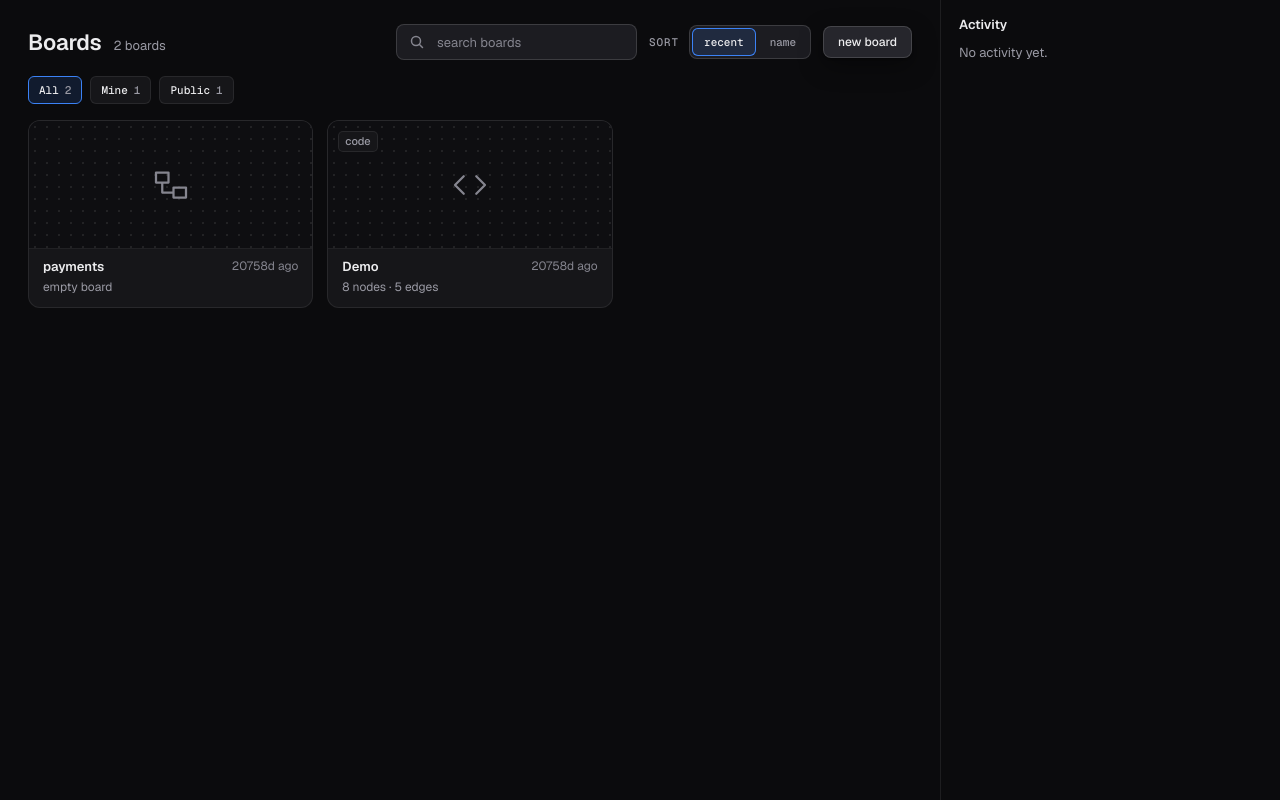
Test: dashboard page › shows board creation reducer errors verbatim
Click the button "new board" at [868, 42], box [823,26,912,58]
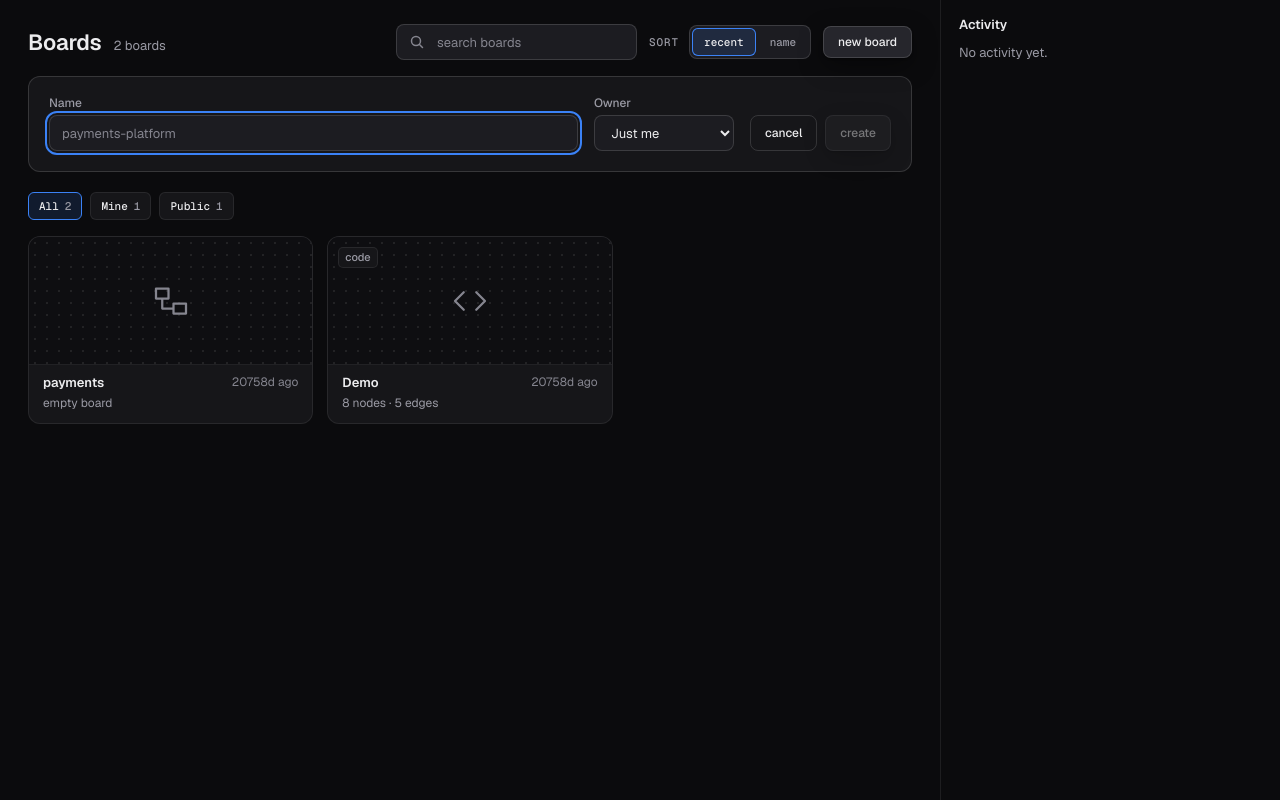
Type "infra" into the field labelled "Name" at [314, 133], box [49,115,578,151]
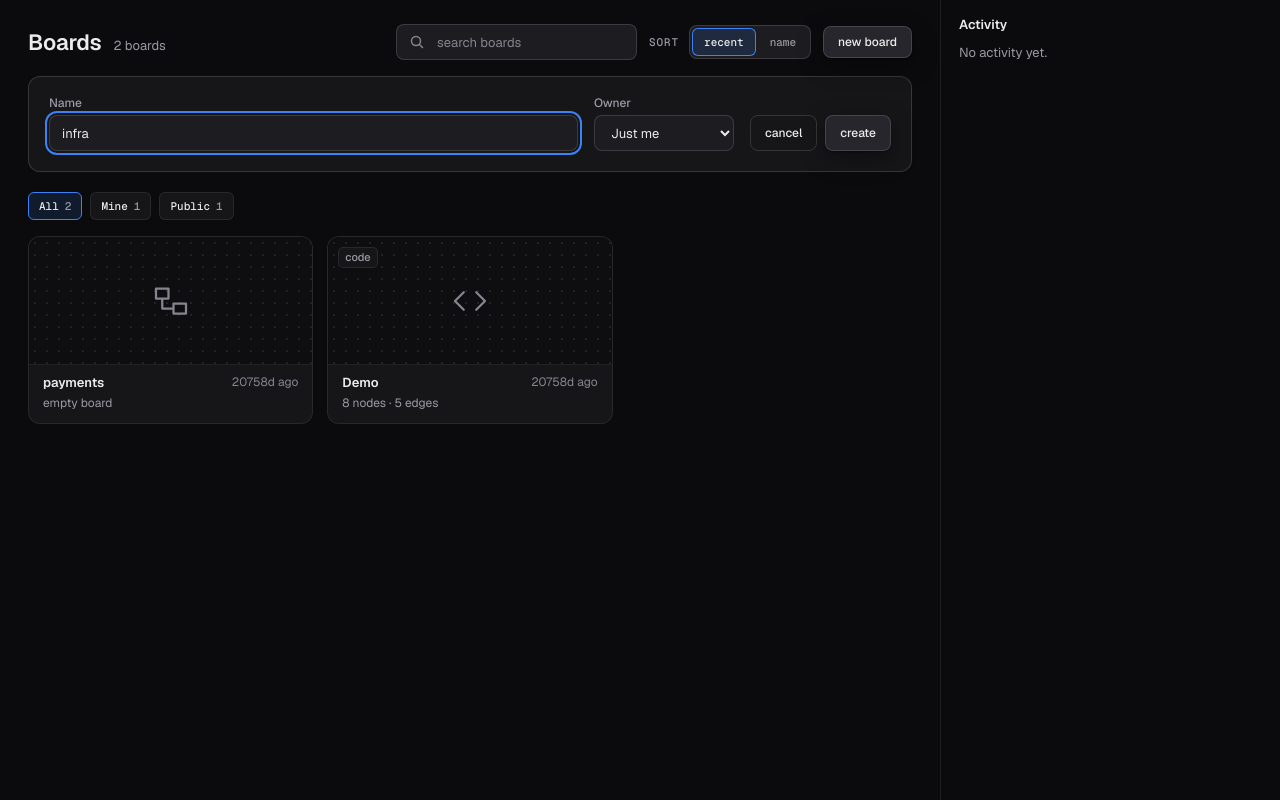
Submit the form named "New board", box [28,76,912,172]
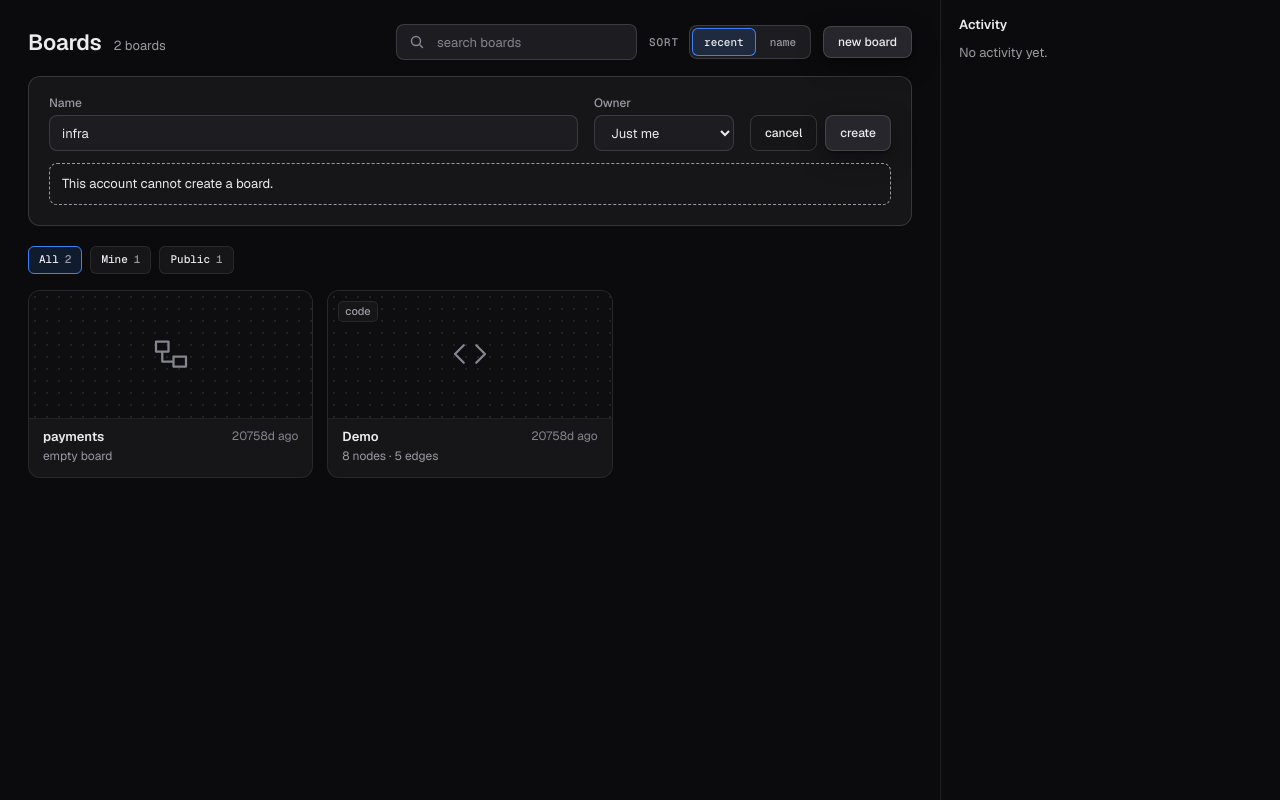
Expected: the text "This account cannot create a board." is shown, [49,163,891,204]
